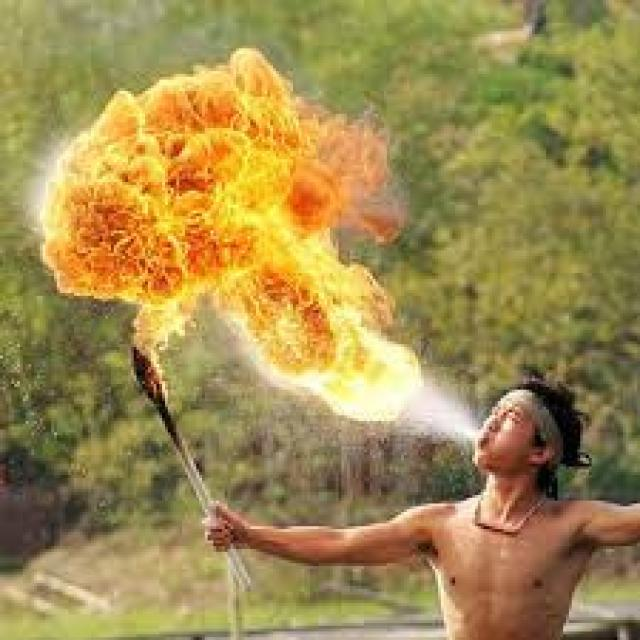fire: (39, 48, 424, 424)
